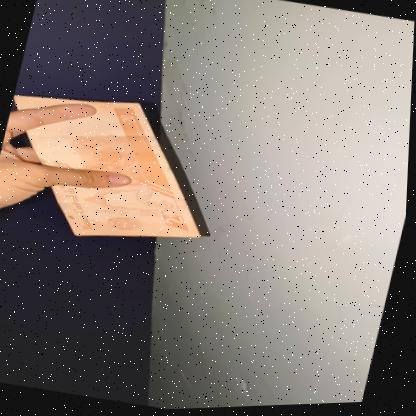twenty-back-vef: (0, 76, 231, 263)
